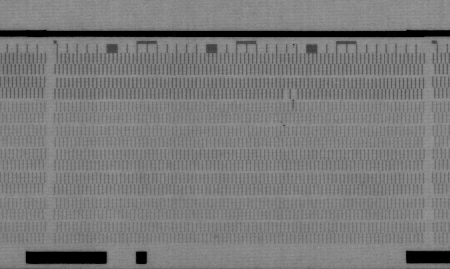Broken hole: (282, 88, 300, 100)
